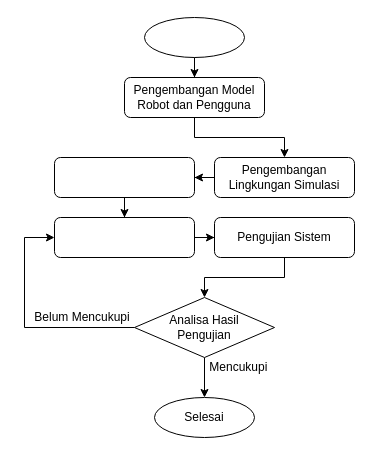
Some shapes in this 372 by 455 pixel diagram are drawn without their labels. The shapes that lost their labels are listed below. From the top down, each one's box as (x1, y1, x2, y2) in pixels, then its label:
(144, 16, 244, 58): Mulai
(54, 156, 194, 198): Pengembangan Sistem Kontroler Robot
(54, 216, 194, 258): Integrasi Sistem Pada Simulasi dan Real Robot
